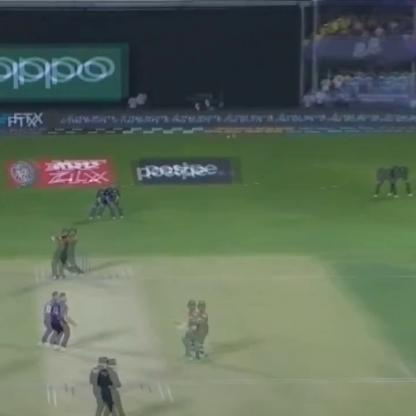ball: (223, 133, 232, 141)
pitch: (29, 255, 180, 412)
